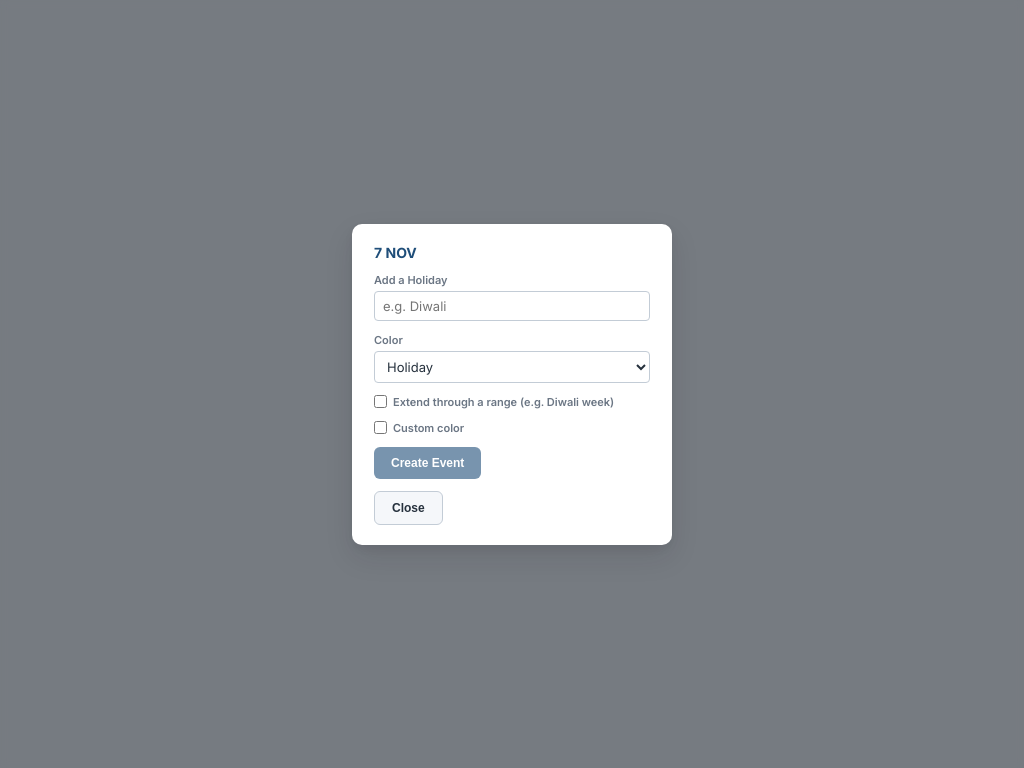
Test: DayEditor › reveals and requires an end date once 'Extend through a range' is checked
Later steps or results of the test are not shown.
Type "Diwali" into the field with placeholder "e.g. Diwali" at (512, 306), box [374,290,650,320]
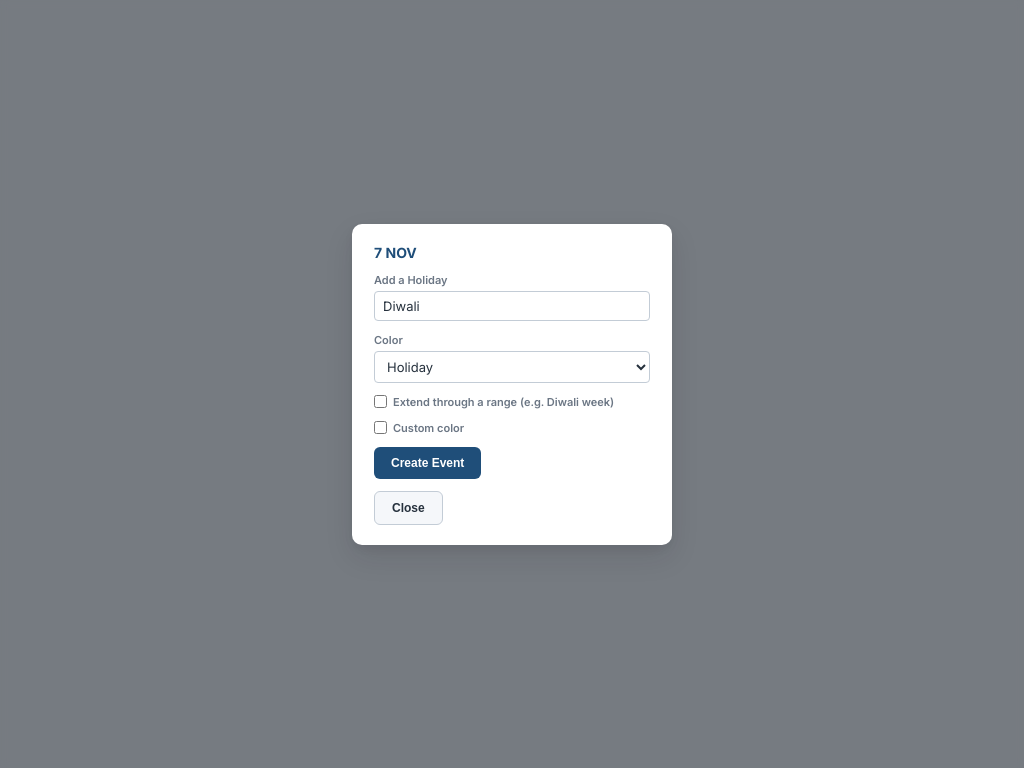
Click the checkbox labelled "Extend through a range (e.g. Diwali week)" at (380, 402), box [374,395,387,408]
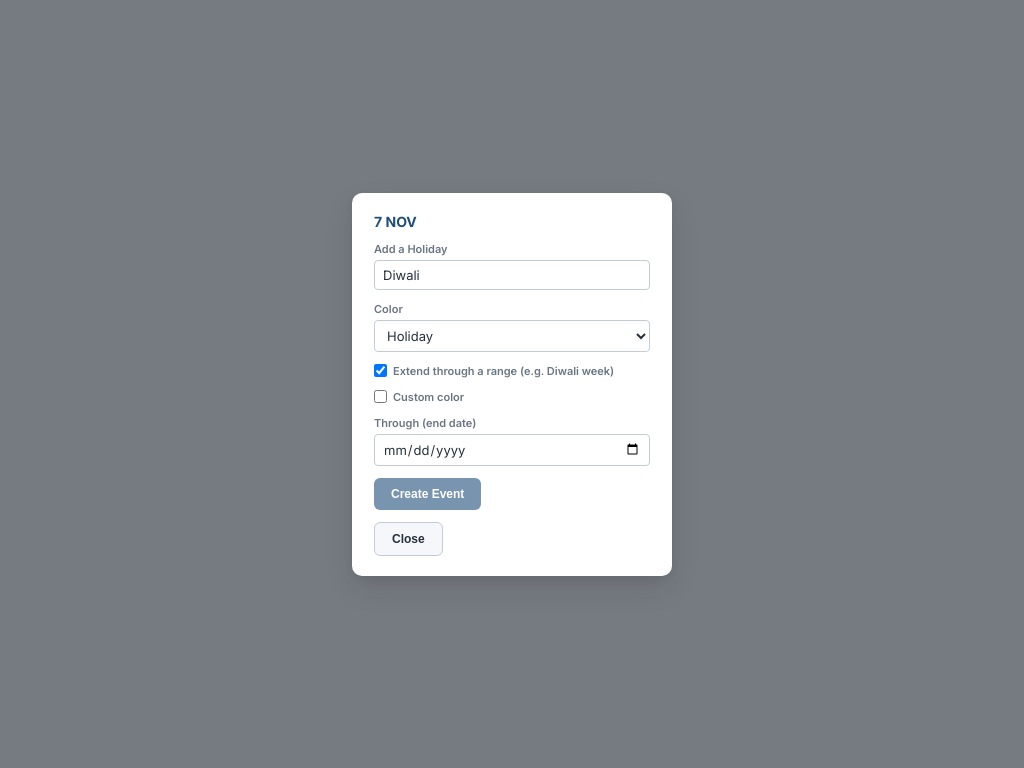
Expected: the button "Create Event" is disabled, [374,478,481,510]
